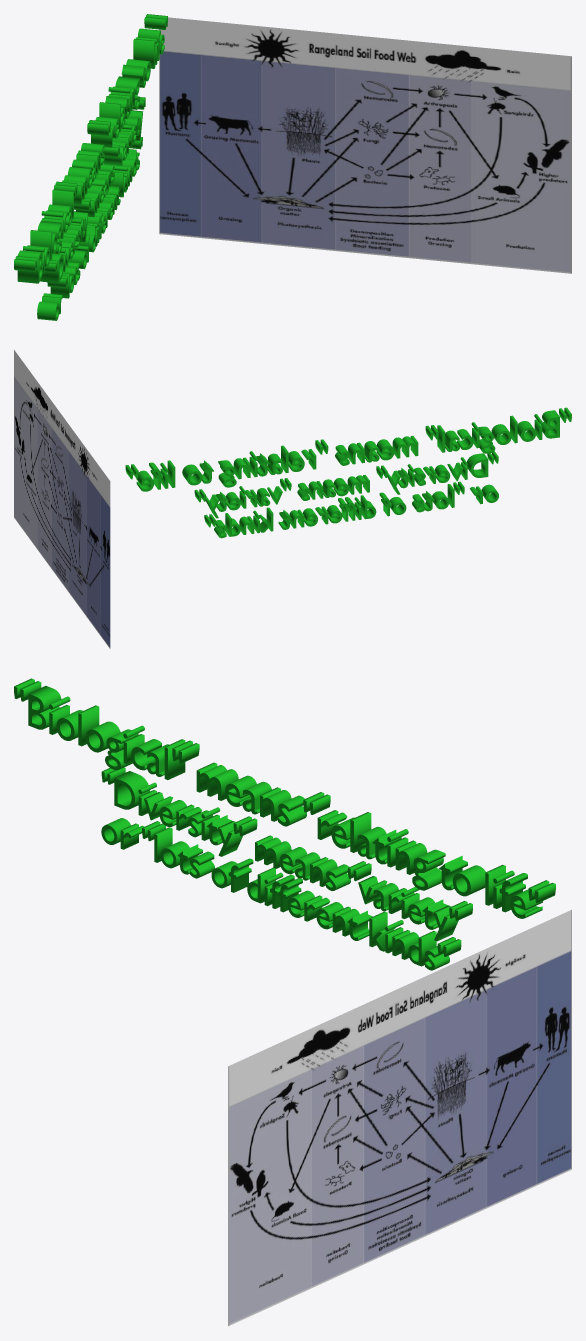
File: biological.glb
3 renders of one model, top to bottom at view 1: azimuth 30°, elevation 25°; view 2: azimuth 150°, elevation 25°; view 3: azimuth 270°, elevation 25°, orthographic. The views are drawn at different scales.
Parts seen in each view (by area): view 1: biological_inner_info, Text, Text.001; view 2: biological_inner_info, Text.001, Text; view 3: biological_inner_info, Text.001, Text.
Boxes of the visible parts, bbox=[...] form: biological_inner_info: bbox=[159, 17, 571, 273]; Text: bbox=[14, 14, 167, 283]; Text.001: bbox=[37, 97, 145, 320]; biological_inner_info: bbox=[14, 350, 110, 648]; Text.001: bbox=[194, 451, 498, 538]; Text: bbox=[125, 407, 571, 491]; biological_inner_info: bbox=[228, 910, 571, 1326]; Text.001: bbox=[101, 767, 472, 970]; Text: bbox=[14, 678, 555, 918].
Size of the model in its own units: 7.87 by 2.7 by 4.97.
Materials: 2 (1 with a texture image).
